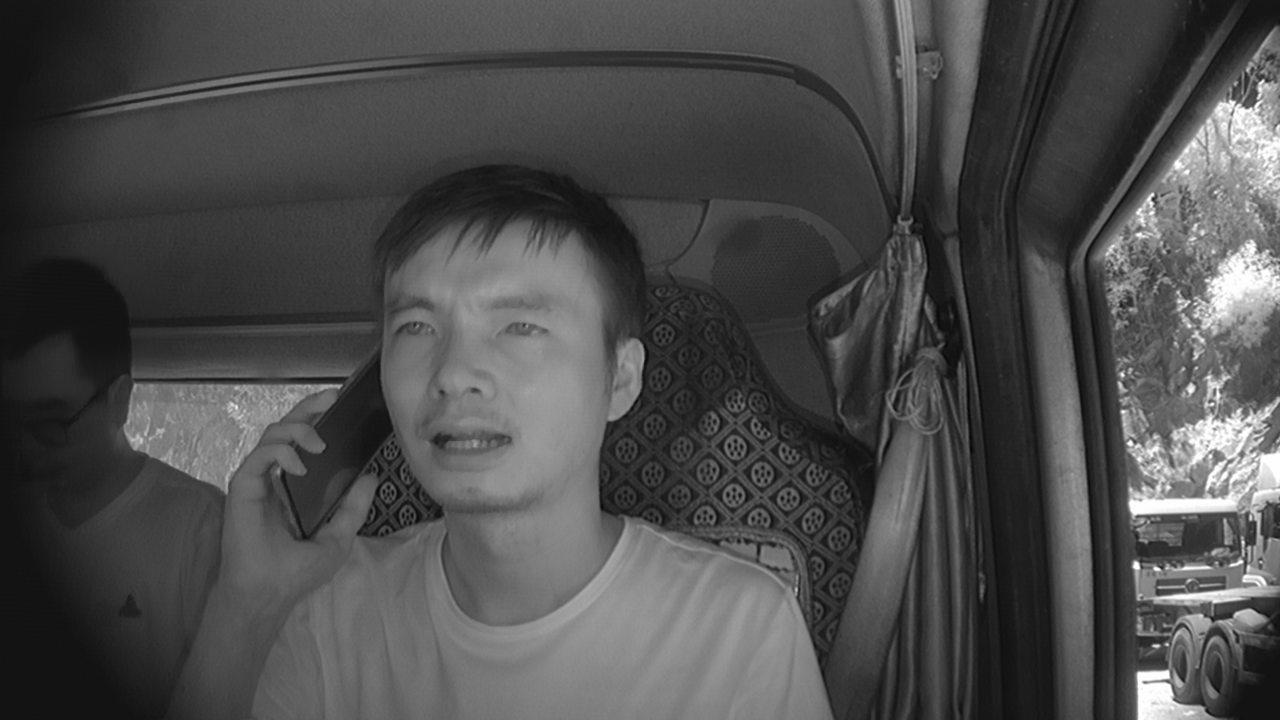hand: (208, 392, 379, 599)
